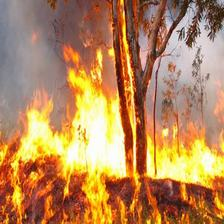fire: (5, 25, 219, 224)
